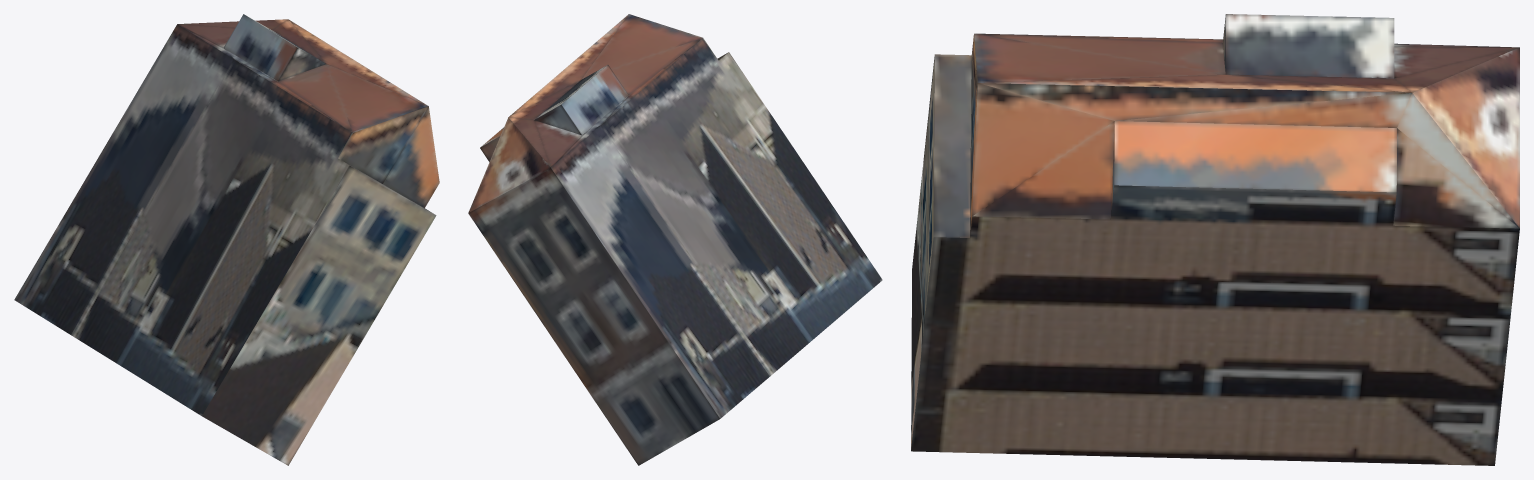
3 renders of one model, left to right at view 1: azimuth 30°, elevation 25°; view 2: azimuth 150°, elevation 25°; view 3: azimuth 270°, elevation 25°, orthographic. The views are drawn at different scales.
Visible parts, largest first — view 1: BAG_0599100000688753 (×7); view 2: BAG_0599100000688753 (×6); view 3: BAG_0599100000688753 (×6).
Part boxes in pixels (box(x1,y1,x2,y2)): BAG_0599100000688753 (×7): box(14, 14, 439, 465); BAG_0599100000688753 (×6): box(468, 14, 882, 465); BAG_0599100000688753 (×6): box(911, 14, 1519, 465).
Bounding box in the file's own units: 11.64 × 12.93 × 13.14.
Materials: 6 (6 with a texture image).
